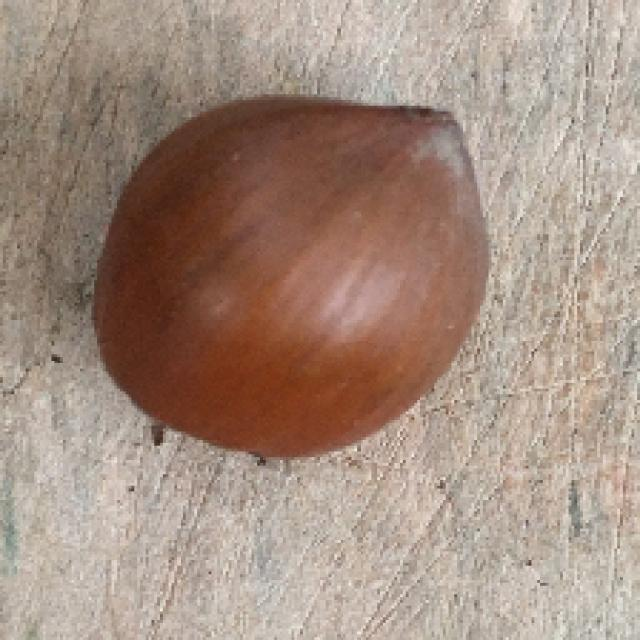qualityHazelnut: (92, 92, 503, 465)
